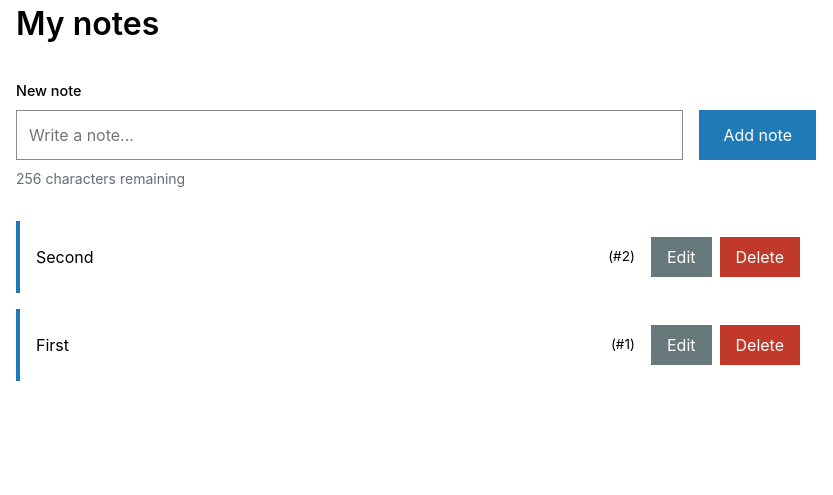
Test: NotesPage › editing a note › announces a failed save in its row and keeps the edit open with the text
This screenshot has width=833, height=495.
Step 1. Click the button with aria-label "Edit note #1" → (681, 345), box top-left (651, 325), bottom-right (712, 365)
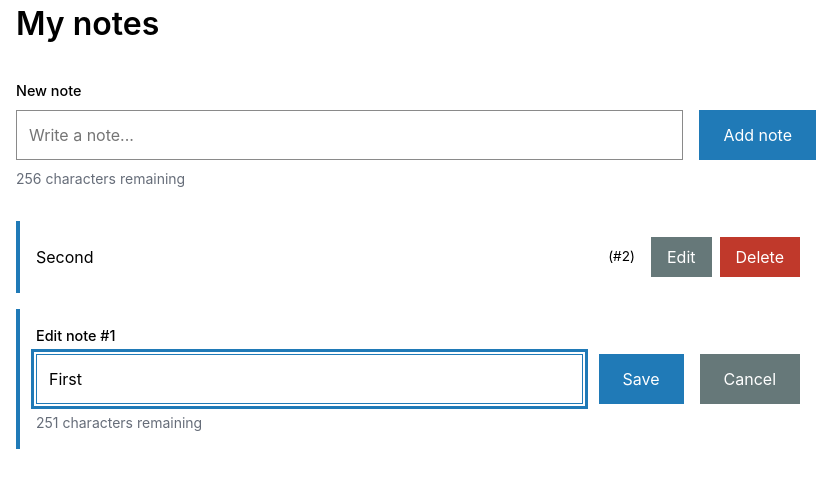
Step 2. Type " changed" into the field labelled "Edit note #1" → (309, 379), box top-left (36, 354), bottom-right (582, 404)
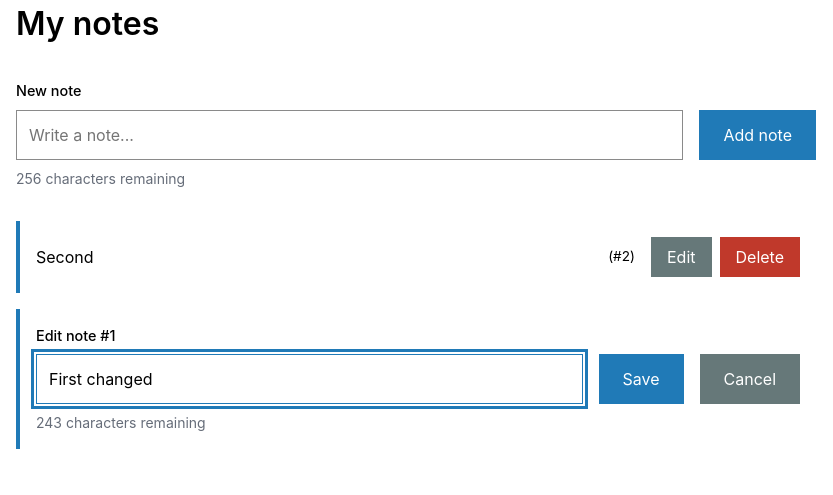
Step 3. Click the button "Save" → (641, 379), box top-left (598, 354), bottom-right (684, 404)
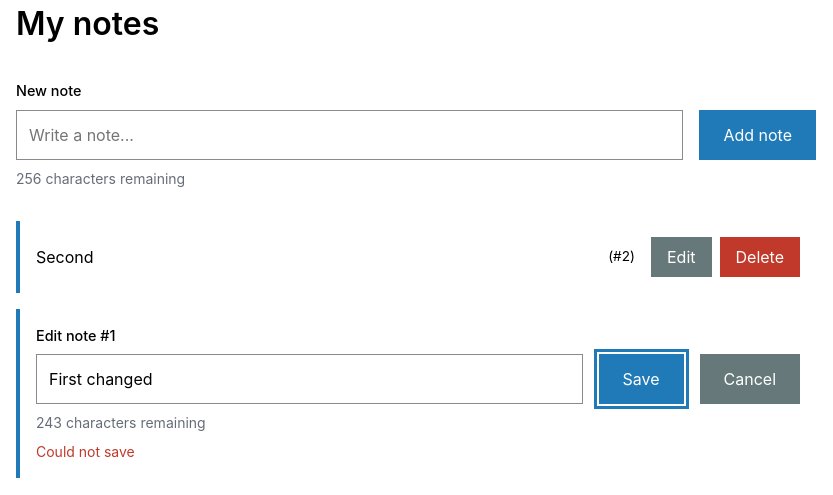
Check: the field labelled "Edit note #1" holds "First changed", box top-left (36, 354), bottom-right (582, 404)
Check: the message reads "Could not save", box top-left (36, 443), bottom-right (135, 460)
Step 4. Press Escape
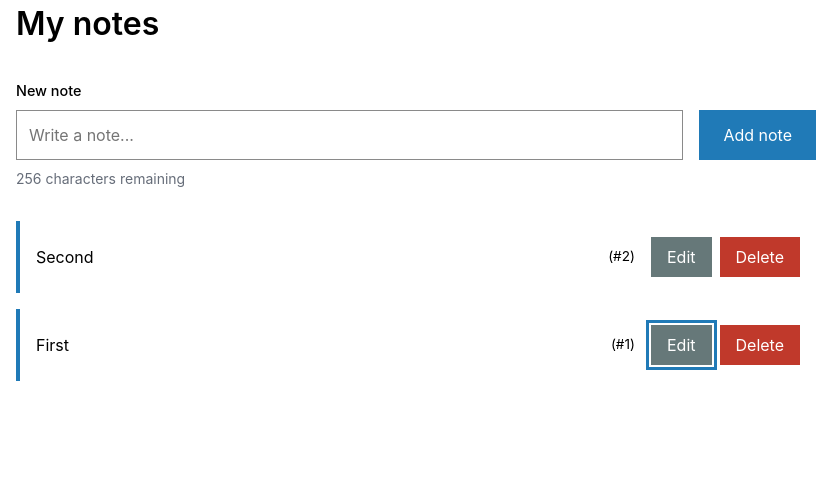
Check: the message "Could not save" is gone
